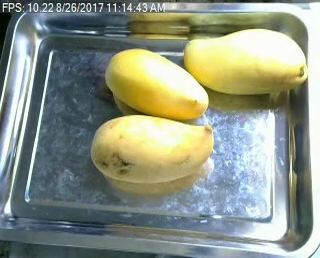Mango: (183, 29, 320, 94), (89, 113, 212, 181), (104, 46, 206, 118)
